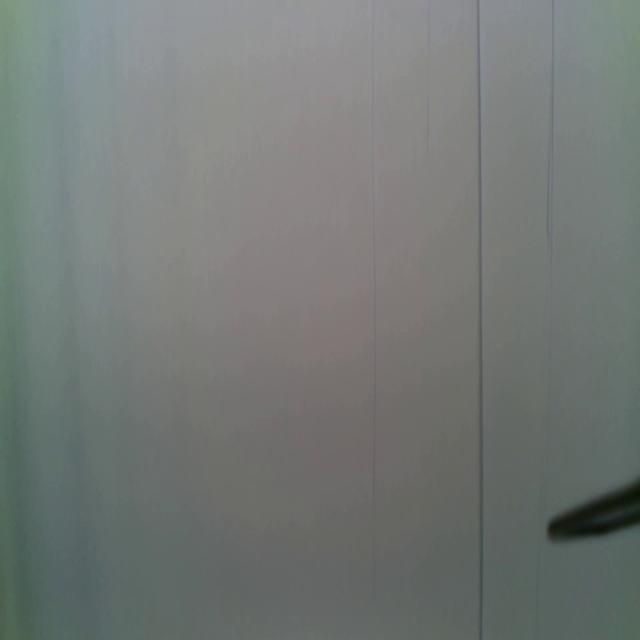crease: (534, 0, 556, 632), (474, 0, 486, 640), (370, 0, 377, 640), (425, 0, 432, 177)
